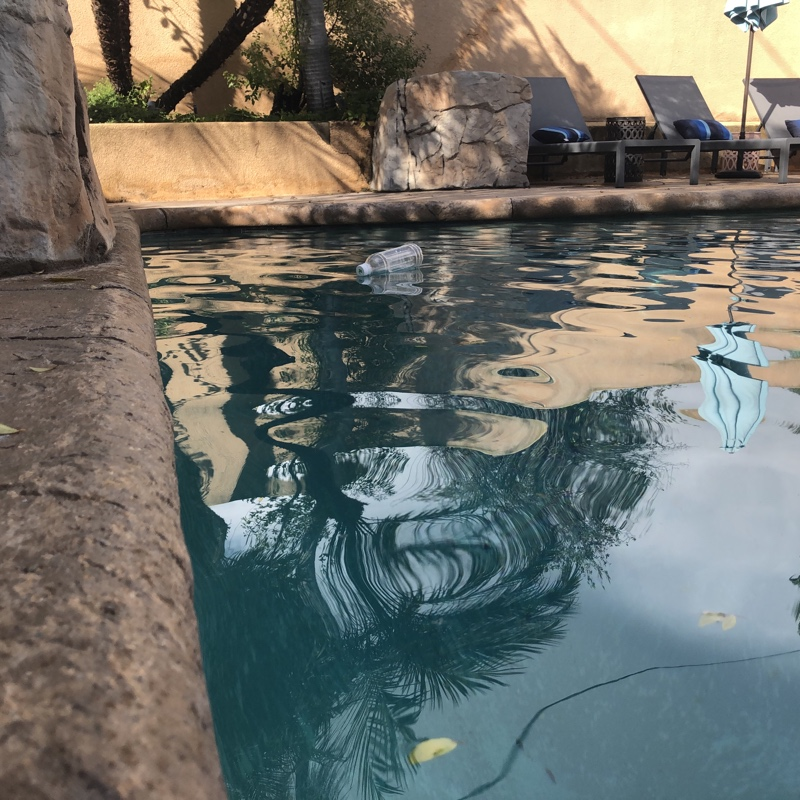Plastic Bottle: (356, 245, 428, 277)
